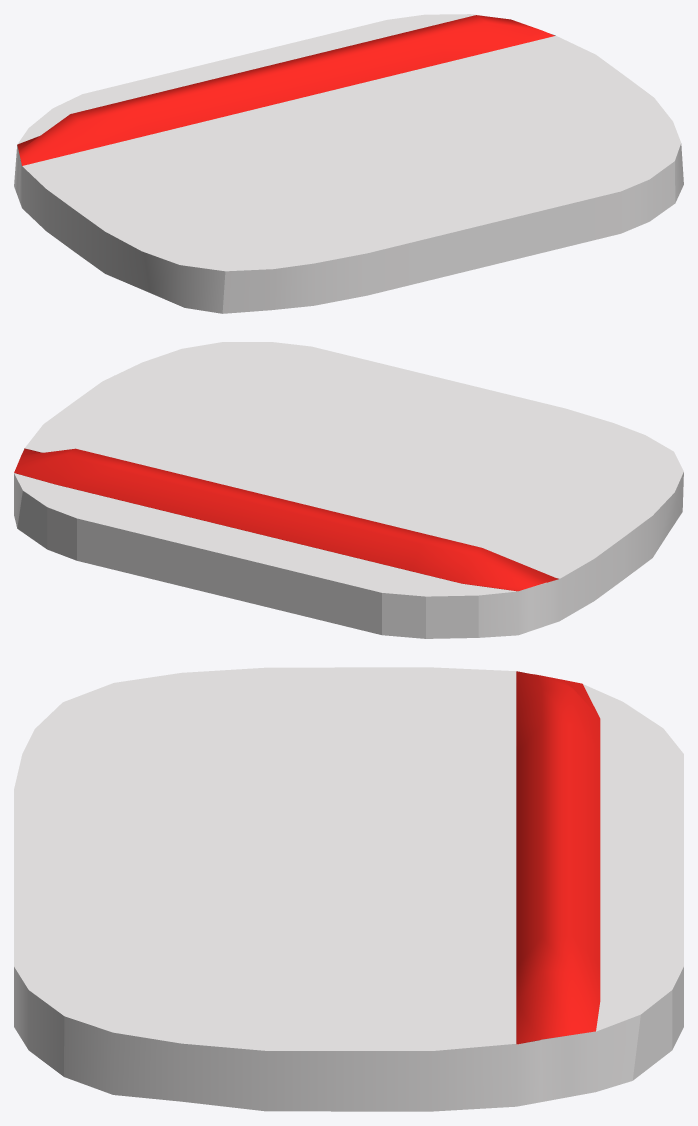
Rendered from key card model red.fbx.
3 renders of one model, top to bottom at view 1: azimuth 30°, elevation 25°; view 2: azimuth 150°, elevation 25°; view 3: azimuth 270°, elevation 25°, orthographic. The views are drawn at different scales.
Visible parts, largest first — view 1: pPlane1; view 2: pPlane1; view 3: pPlane1.
Boxes of the visible parts, bbox=[...] form: pPlane1: bbox=[14, 14, 683, 313]; pPlane1: bbox=[14, 342, 683, 638]; pPlane1: bbox=[14, 667, 683, 1111].
Size of the model in its own units: 6.18 by 0.6778 by 4.56.
Materials: 1 (1 with a texture image).
